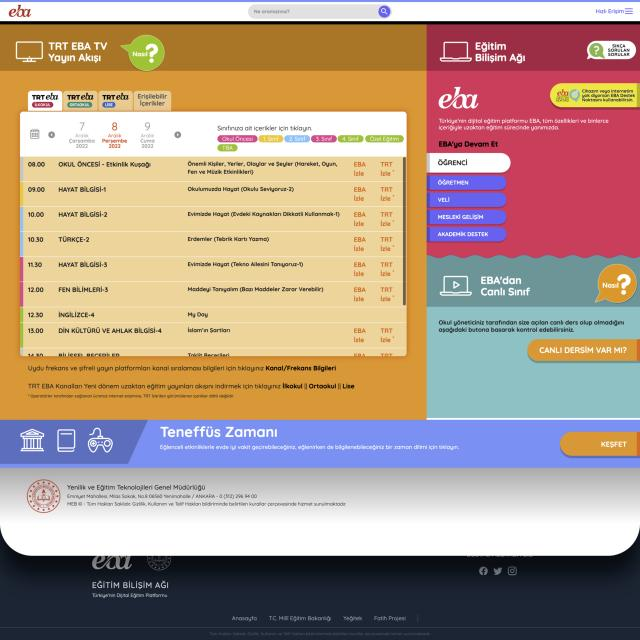footer: (0, 556, 640, 640)
input: (248, 4, 392, 18)
logo: (7, 2, 36, 19)
navigation: (426, 152, 511, 242), (594, 5, 634, 16)
